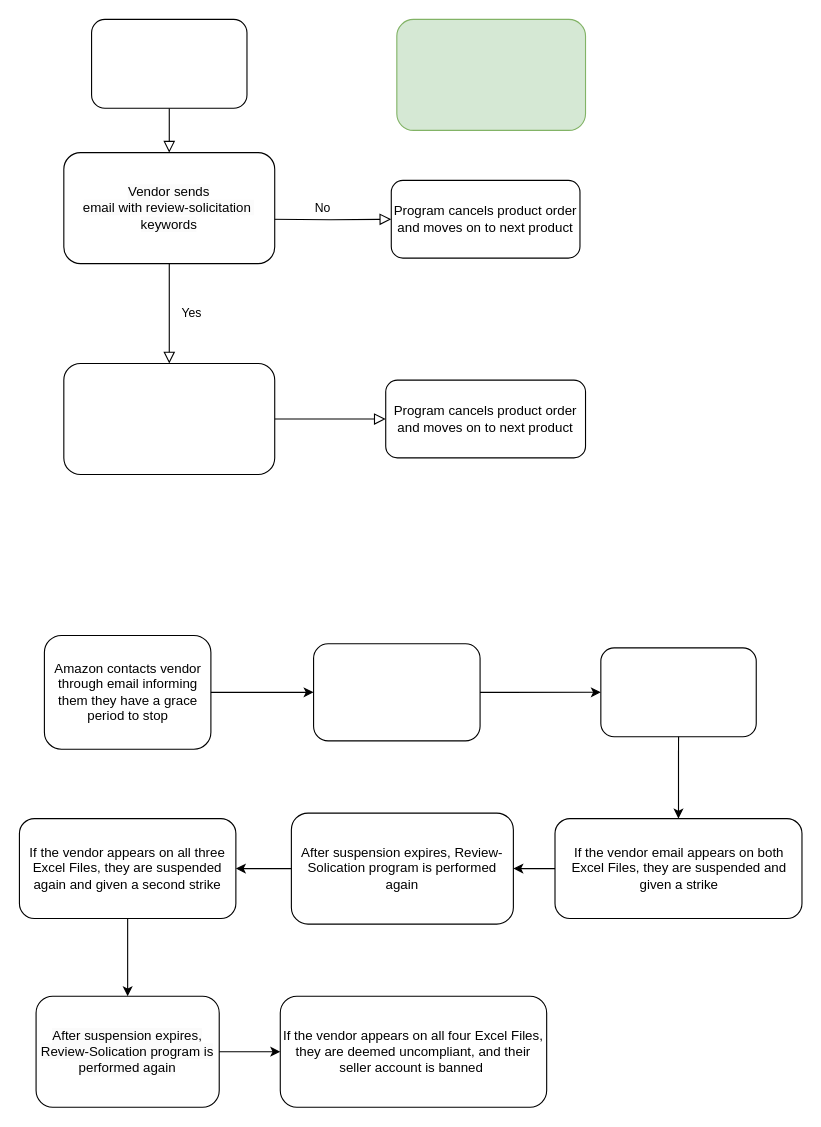
This 821x1127 diagram has some shape labels left out. The shapes that lost their labels are listed below. From the top down, each one's box as (x1, y1, x2, y2) in pixels, then its label:
(90, 18, 247, 108): Computer Program places product order
(396, 18, 586, 130): Review-solicitation detector for Amazon
(63, 362, 275, 475): Vendor email is copy/pasted to an Excel File
(312, 643, 480, 741): Grace period expires
(600, 647, 756, 737): Review-solicitation program is performed again
